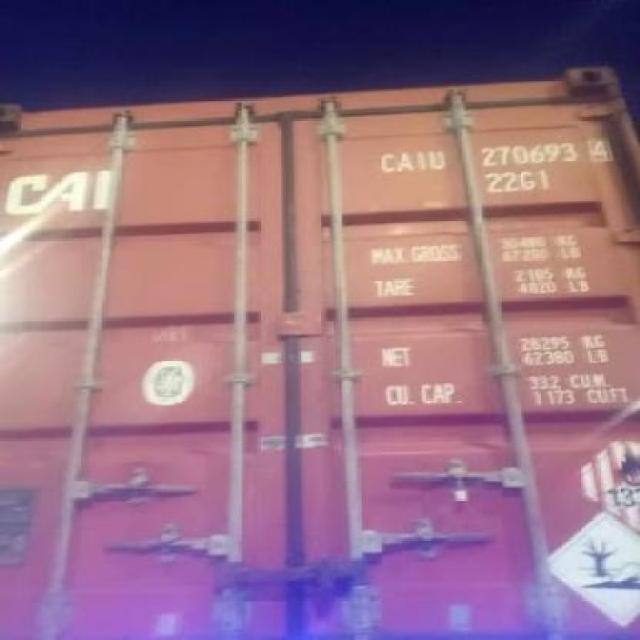ISO: (486, 174, 550, 198)
container_number: (376, 140, 600, 170)
